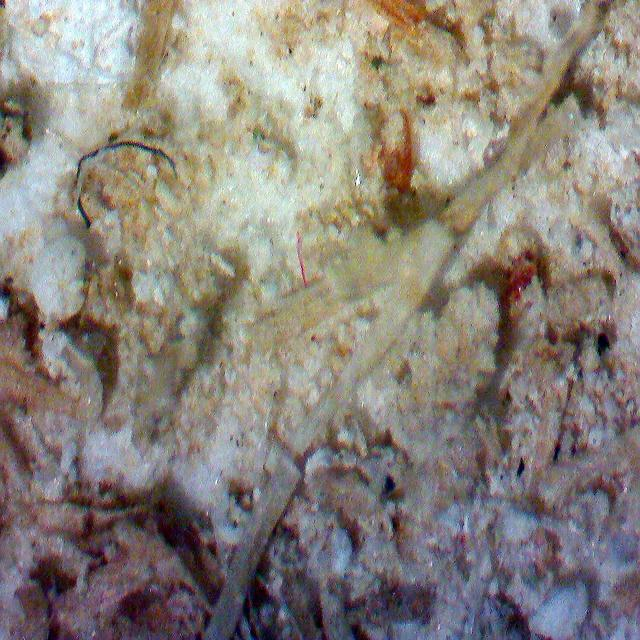microplastic: (75, 141, 178, 228), (295, 230, 307, 288)
